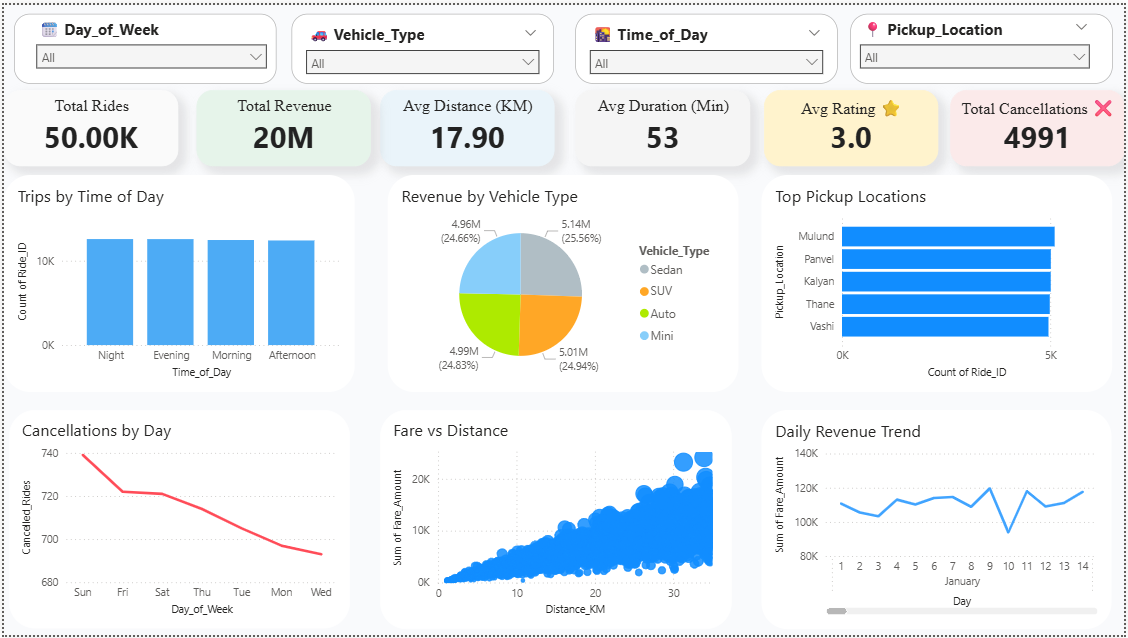

Layout of this report page (visuals, bound fields, positions):
{"tool":"powerbi","page":{"name":"ride_sharing_dashboard_1","canvas":[1280,720],"ordinal":0},"visuals":[{"type":"slicer","title":"📅 Day_of_Week","fields":{"Values":["ola_uber_rides_simulated.Day_of_Week"]},"box":[11.2,10,299.8,79.6],"z":0},{"type":"slicer","fields":{"Values":["ola_uber_rides_simulated.Vehicle_Type"]},"box":[329,10,299.8,79.6],"z":1000},{"type":"slicer","fields":{"Values":["ola_uber_rides_simulated.Time_of_Day"]},"box":[653.1,10,299.8,79.6],"z":2000},{"type":"slicer","fields":{"Values":["ola_uber_rides_simulated.Pickup_Location"]},"box":[967.8,10,299.8,79.6],"z":3000},{"type":"card","title":"Total Rides","fields":{"Values":["CountNonNull(ola_uber_rides_simulated.Ride_ID)"]},"box":[0,97,199,87.1],"z":4000},{"type":"card","title":"Avg Distance (KM)","fields":{"Values":["Avg(ola_uber_rides_simulated.Distance_KM)"]},"box":[430.4,97,199,87.1],"z":5000},{"type":"card","title":"Total Revenue","fields":{"Values":["Sum(ola_uber_rides_simulated.Fare_Amount)"]},"box":[220.7,97.2,199.5,87.3],"z":6000},{"type":"card","title":" Avg Duration (Min)","fields":{"Values":["Avg(ola_uber_rides_simulated.Duration_Minutes)"]},"box":[653.1,97,200.3,87.1],"z":7000},{"type":"card","title":"Avg Rating ⭐","fields":{"Values":["Avg(ola_uber_rides_simulated.Customer_Rating)"]},"box":[868.3,97,199,87.1],"z":8000},{"type":"card","title":"Total Cancellations ❌","fields":{"Values":["ola_uber_rides_simulated.Total_Cancellations"]},"box":[1081,97,199,87.1],"z":9000},{"type":"clusteredColumnChart","title":"Trips by Time of Day","fields":{"Y":["CountNonNull(ola_uber_rides_simulated.Ride_ID)"],"Category":["ola_uber_rides_simulated.Time_of_Day"]},"box":[0,194.9,400.7,248.4],"z":10000},{"type":"lineChart","title":"Daily Revenue Trend","fields":{"Category":["ola_uber_rides_simulated.Ride_Date.Variation.Date Hierarchy.Month","ola_uber_rides_simulated.Ride_Date.Variation.Date Hierarchy.Day"],"Y":["Sum(ola_uber_rides_simulated.Fare_Amount)"]},"box":[865.7,462.9,400,250],"z":11000},{"type":"clusteredBarChart","title":"Top Pickup Locations","fields":{"Category":["ola_uber_rides_simulated.Pickup_Location"],"Y":["CountNonNull(ola_uber_rides_simulated.Ride_ID)"]},"box":[865.9,194.9,400.7,248.4],"z":12000},{"type":"pieChart","title":"Revenue by Vehicle Type","fields":{"Category":["ola_uber_rides_simulated.Vehicle_Type"],"Y":["Sum(ola_uber_rides_simulated.Fare_Amount)"]},"box":[439.1,194.9,400.7,248.4],"z":15000},{"type":"lineChart","title":"Cancellations by Day","fields":{"Category":["ola_uber_rides_simulated.Day_of_Week"],"Y":["ola_uber_rides_simulated.Cancelled_Rides"]},"box":[5.5,462.4,389.7,249.7],"z":15001},{"type":"scatterChart","title":"Fare vs Distance","fields":{"X":["ola_uber_rides_simulated.Distance_KM"],"Y":["Sum(ola_uber_rides_simulated.Fare_Amount)"],"Size":["Sum(ola_uber_rides_simulated.Duration_Minutes)"]},"box":[430,462.9,401.4,250],"z":15002}]}

Visuals, with their boxes in screenshot pixels (x1, y1, x2, y2), scaled from the page's 1280x720 canvas onto the 1128x638 screenshot:
"📅 Day_of_Week" slicer: x1=10, y1=9, x2=274, y2=79
slicer - ola_uber_rides_simulated.Vehicle_Type: x1=290, y1=9, x2=554, y2=79
slicer - ola_uber_rides_simulated.Time_of_Day: x1=576, y1=9, x2=840, y2=79
slicer - ola_uber_rides_simulated.Pickup_Location: x1=853, y1=9, x2=1117, y2=79
"Total Rides" card: x1=0, y1=86, x2=175, y2=163
"Avg Distance (KM)" card: x1=379, y1=86, x2=555, y2=163
"Total Revenue" card: x1=194, y1=86, x2=370, y2=163
" Avg Duration (Min)" card: x1=576, y1=86, x2=752, y2=163
"Avg Rating ⭐" card: x1=765, y1=86, x2=941, y2=163
"Total Cancellations ❌" card: x1=953, y1=86, x2=1127, y2=163
"Trips by Time of Day" clusteredColumnChart: x1=0, y1=173, x2=353, y2=393
"Daily Revenue Trend" lineChart: x1=763, y1=410, x2=1115, y2=632
"Top Pickup Locations" clusteredBarChart: x1=763, y1=173, x2=1116, y2=393
"Revenue by Vehicle Type" pieChart: x1=387, y1=173, x2=740, y2=393
"Cancellations by Day" lineChart: x1=5, y1=410, x2=348, y2=631
"Fare vs Distance" scatterChart: x1=379, y1=410, x2=733, y2=632
